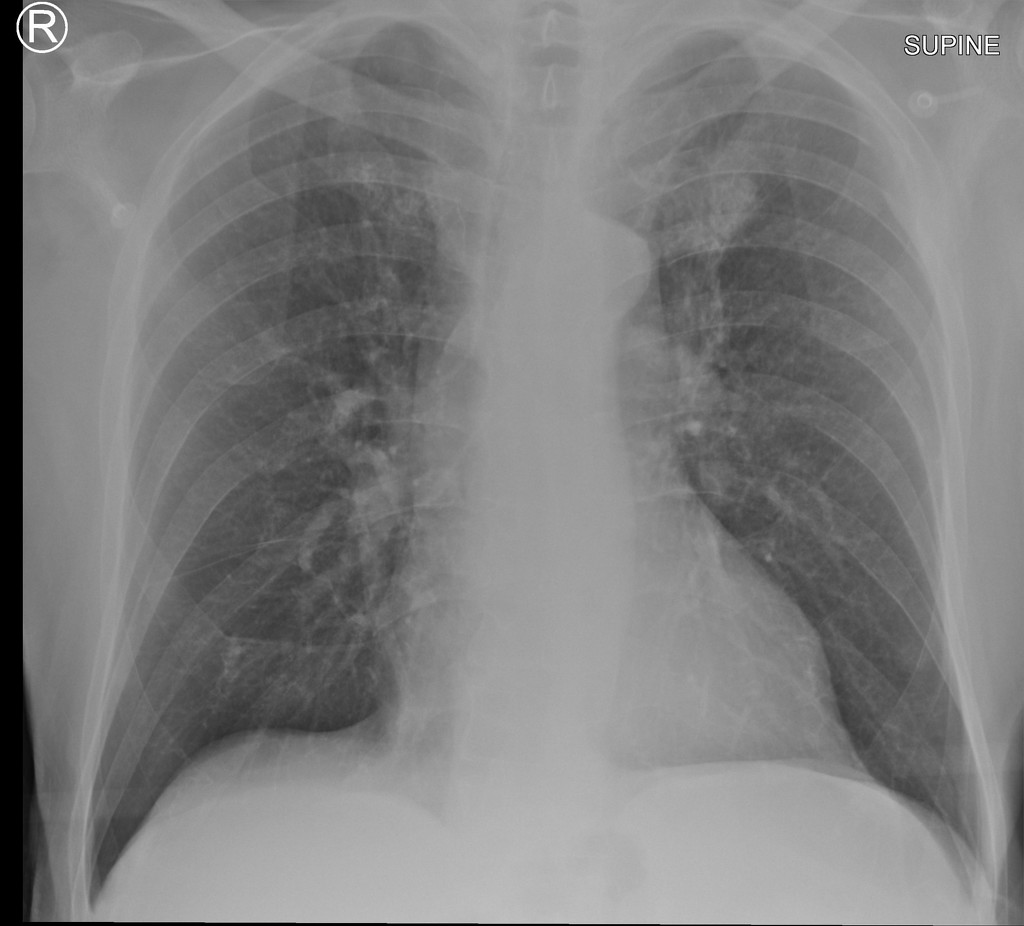cancer: (154, 179, 447, 731), (610, 123, 876, 642)
